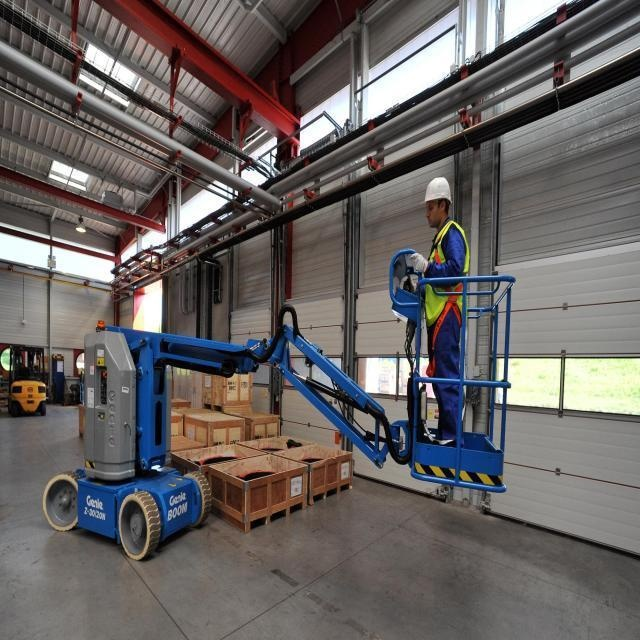Arnes_seguridad: (426, 235, 468, 372)
